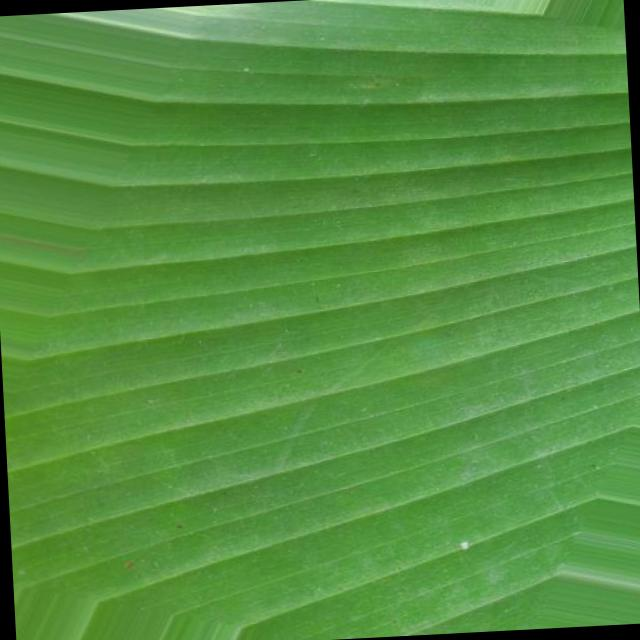Banana_Healthy: (85, 53, 640, 573)
